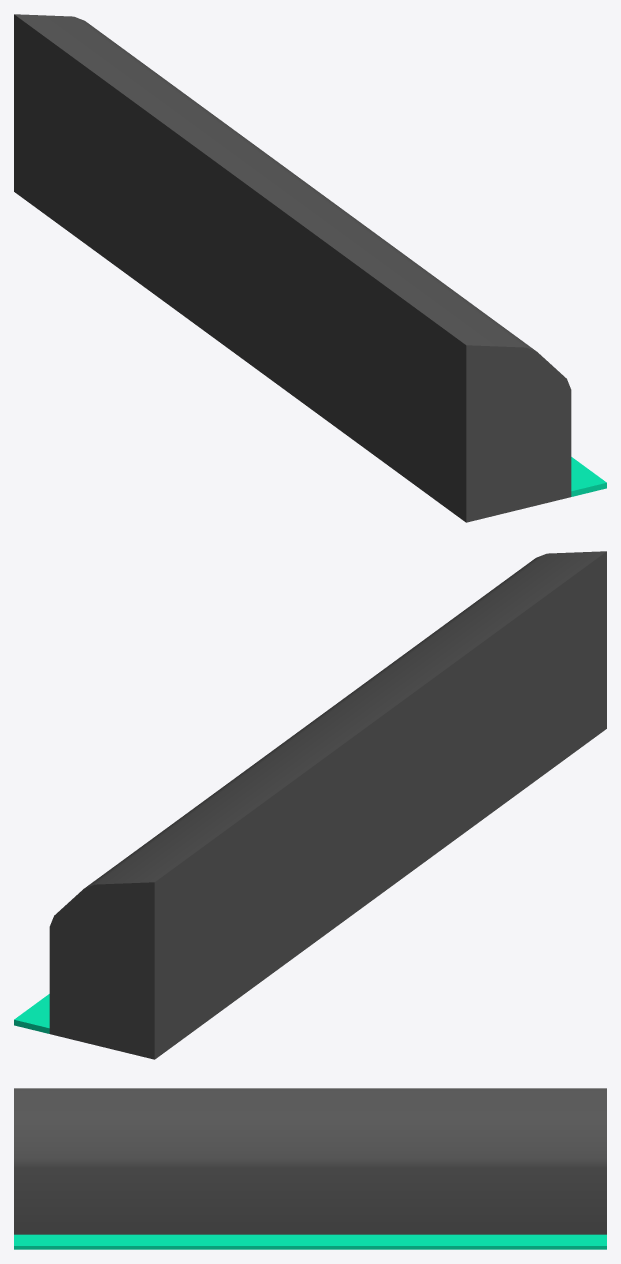
Rendered from CorridorWallInPillarDown_01.fbx.
3 renders of one model, top to bottom at view 1: azimuth 30°, elevation 25°; view 2: azimuth 150°, elevation 25°; view 3: azimuth 270°, elevation 25°, orthographic. The views are drawn at different scales.
Parts seen in each view (by area): view 1: Box135, CorridorWallInPillarDown_01; view 2: Box135, CorridorWallInPillarDown_01; view 3: Box135, CorridorWallInPillarDown_01.
Boxes of the visible parts, x1,y1,x2,y2 form: Box135: [14, 14, 571, 522]; CorridorWallInPillarDown_01: [571, 457, 606, 496]; Box135: [49, 551, 606, 1059]; CorridorWallInPillarDown_01: [14, 994, 49, 1033]; Box135: [14, 1088, 606, 1234]; CorridorWallInPillarDown_01: [14, 1234, 606, 1249].
Size of the model in its own units: 32.88 by 183 by 39.61.
